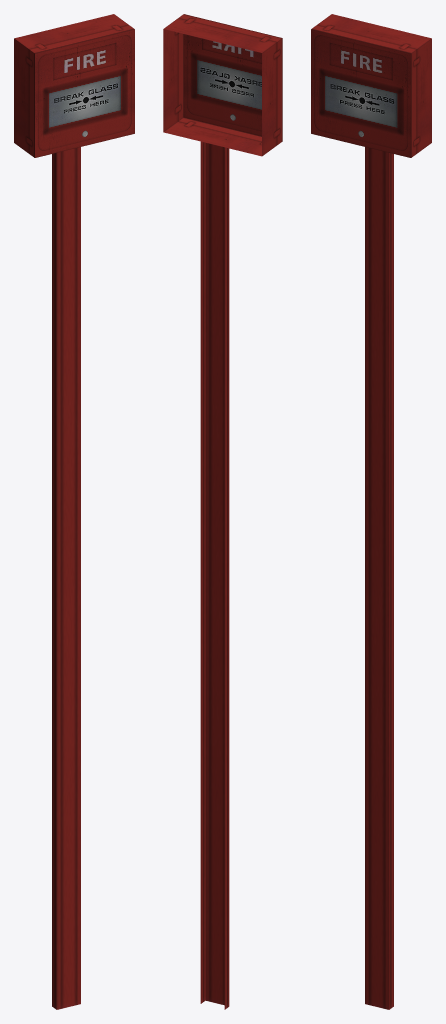
The model's file is ms_fire_alarm_button.fbx.
3 renders of one model, left to right at view 1: azimuth 30°, elevation 25°; view 2: azimuth 150°, elevation 25°; view 3: azimuth 330°, elevation 25°, orthographic.
Parts seen in each view (by area): view 1: ms_fire_alarm_button; view 2: ms_fire_alarm_button; view 3: ms_fire_alarm_button.
Part boxes in pixels (bbox=[...]): ms_fire_alarm_button: bbox=[14, 14, 134, 1009]; ms_fire_alarm_button: bbox=[163, 14, 282, 1009]; ms_fire_alarm_button: bbox=[311, 14, 431, 1009].
Size of the model in its own units: 12.47 by 116 by 4.48.
